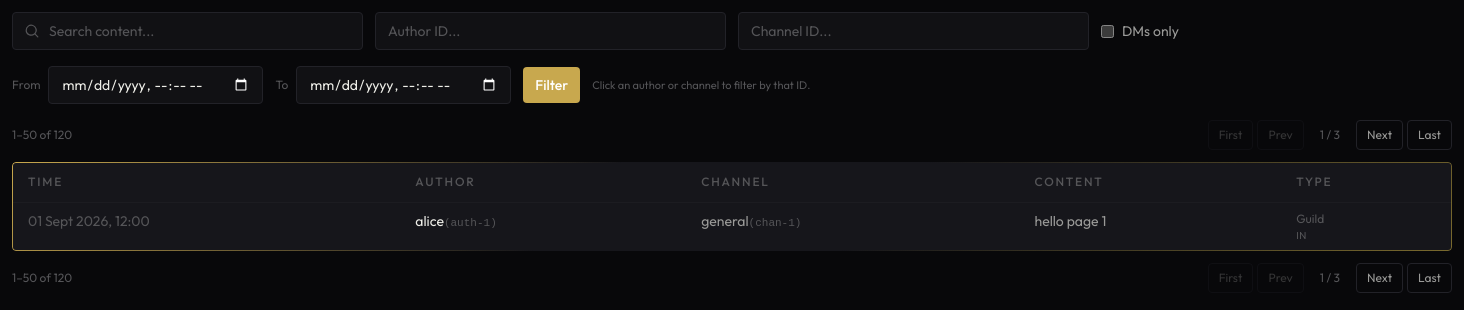
Test: Next sends the following page to the API
Click the 1st button "Next" at [1380, 135], box x1=1356 y1=120 x2=1403 y2=150
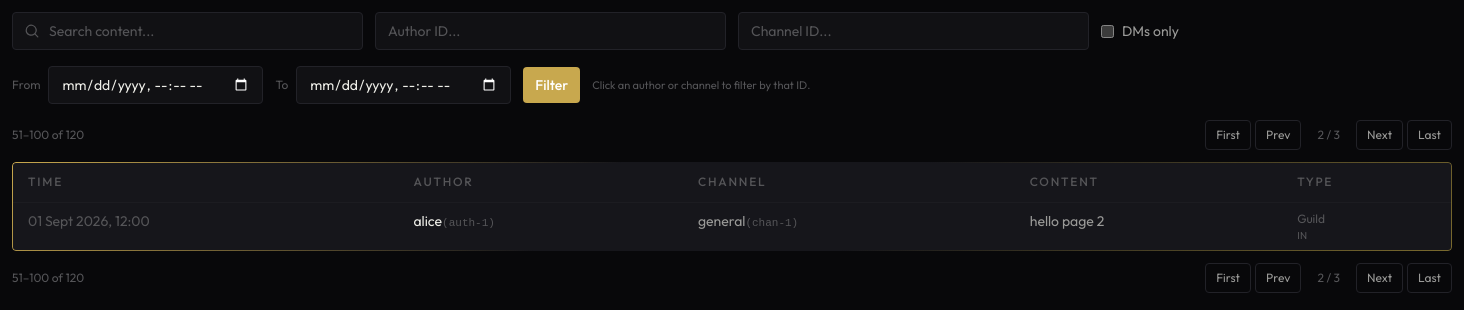
expect the text "hello page 2" is shown: met, box x1=1030 y1=212 x2=1104 y2=230
